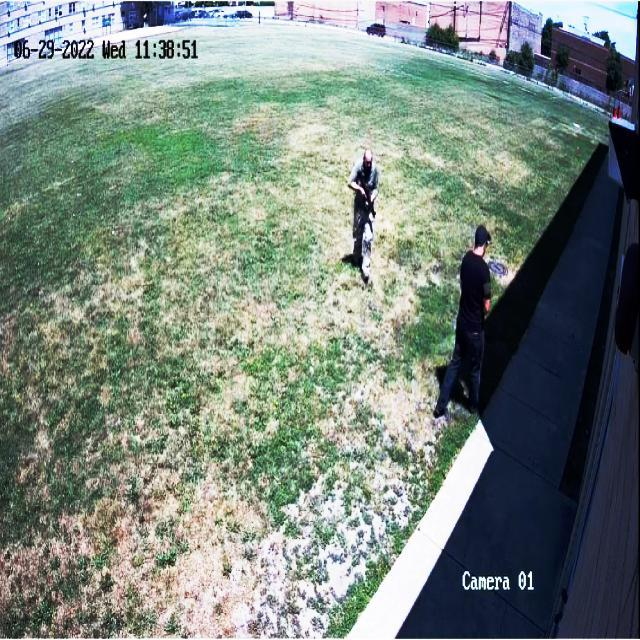Gun: (352, 188, 382, 234)
